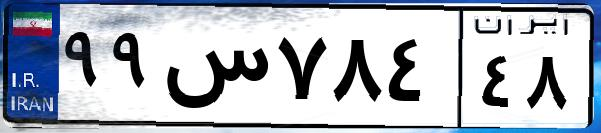4: (385, 28, 445, 110), (475, 38, 525, 113)
7: (270, 28, 330, 110)
8: (330, 28, 385, 110), (525, 38, 570, 115)
9: (57, 26, 110, 100), (110, 28, 158, 98)
س: (158, 20, 270, 120)
